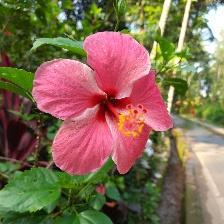hibiscus: (34, 31, 178, 176)
